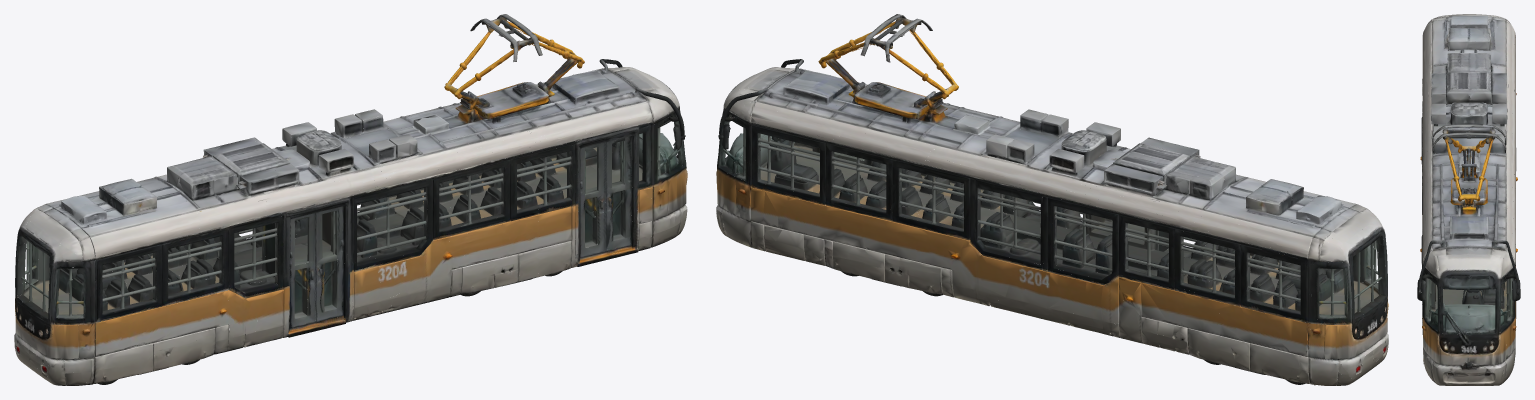
Rendered from vario.glb.
3 renders of one model, left to right at view 1: azimuth 30°, elevation 25°; view 2: azimuth 150°, elevation 25°; view 3: azimuth 270°, elevation 25°, orthographic. The views are drawn at different scales.
Visible parts, largest first — view 1: Vario_LF; view 2: Vario_LF; view 3: Vario_LF.
Part boxes in pixels (<box>): Vario_LF: <box>14,14,687,385</box>; Vario_LF: <box>716,14,1388,385</box>; Vario_LF: <box>1417,14,1520,385</box>.
Size of the model in its own units: 15.1 by 5.4 by 2.5.
1 material, 1 textured.
